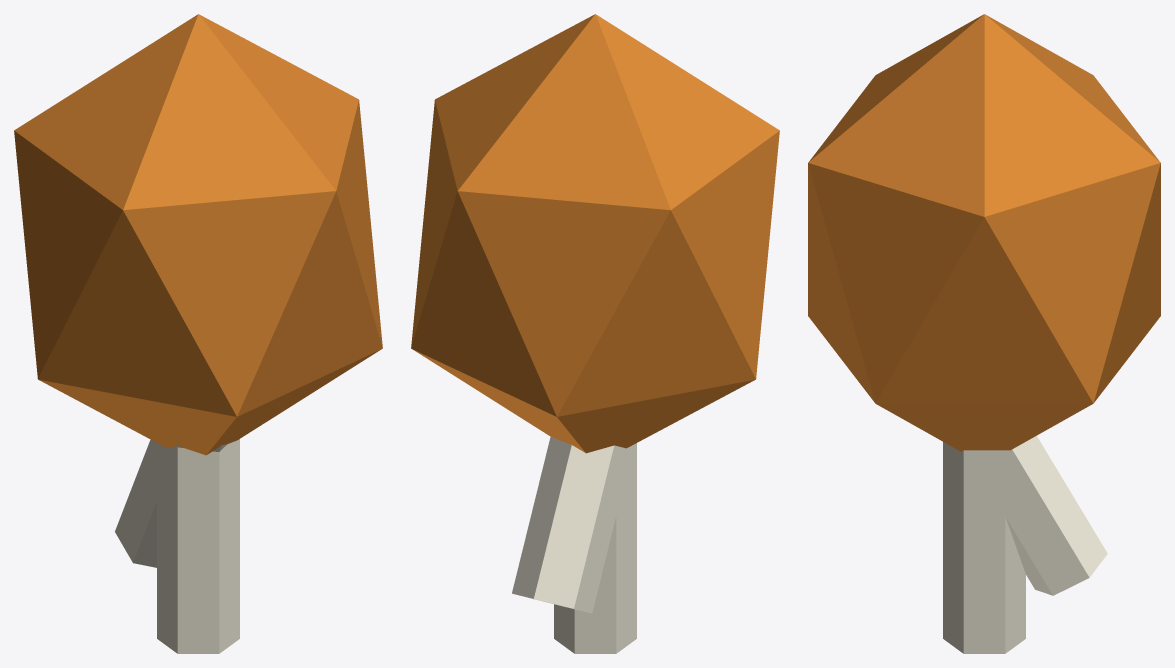
The model's file is chicken_drumstick.glb.
3 renders of one model, left to right at view 1: azimuth 30°, elevation 25°; view 2: azimuth 150°, elevation 25°; view 3: azimuth 270°, elevation 25°, orthographic.
Visible parts, largest first — view 1: chicken_drumstick; view 2: chicken_drumstick; view 3: chicken_drumstick.
Boxes of the visible parts, x1,y1,x2,y2 form: chicken_drumstick: [14, 14, 382, 653]; chicken_drumstick: [411, 14, 779, 653]; chicken_drumstick: [808, 14, 1160, 653].
Size of the model in its own units: 0.0716 by 0.133 by 0.0681.
